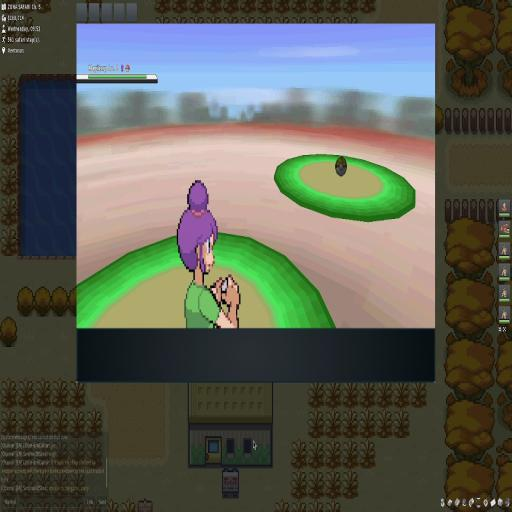SUCESSFULCAPTURE: (335, 156, 348, 176)
